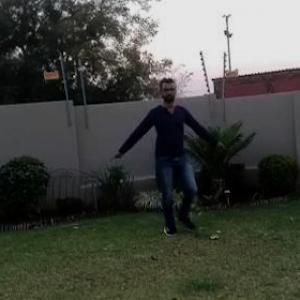land: (112, 87, 216, 224)
